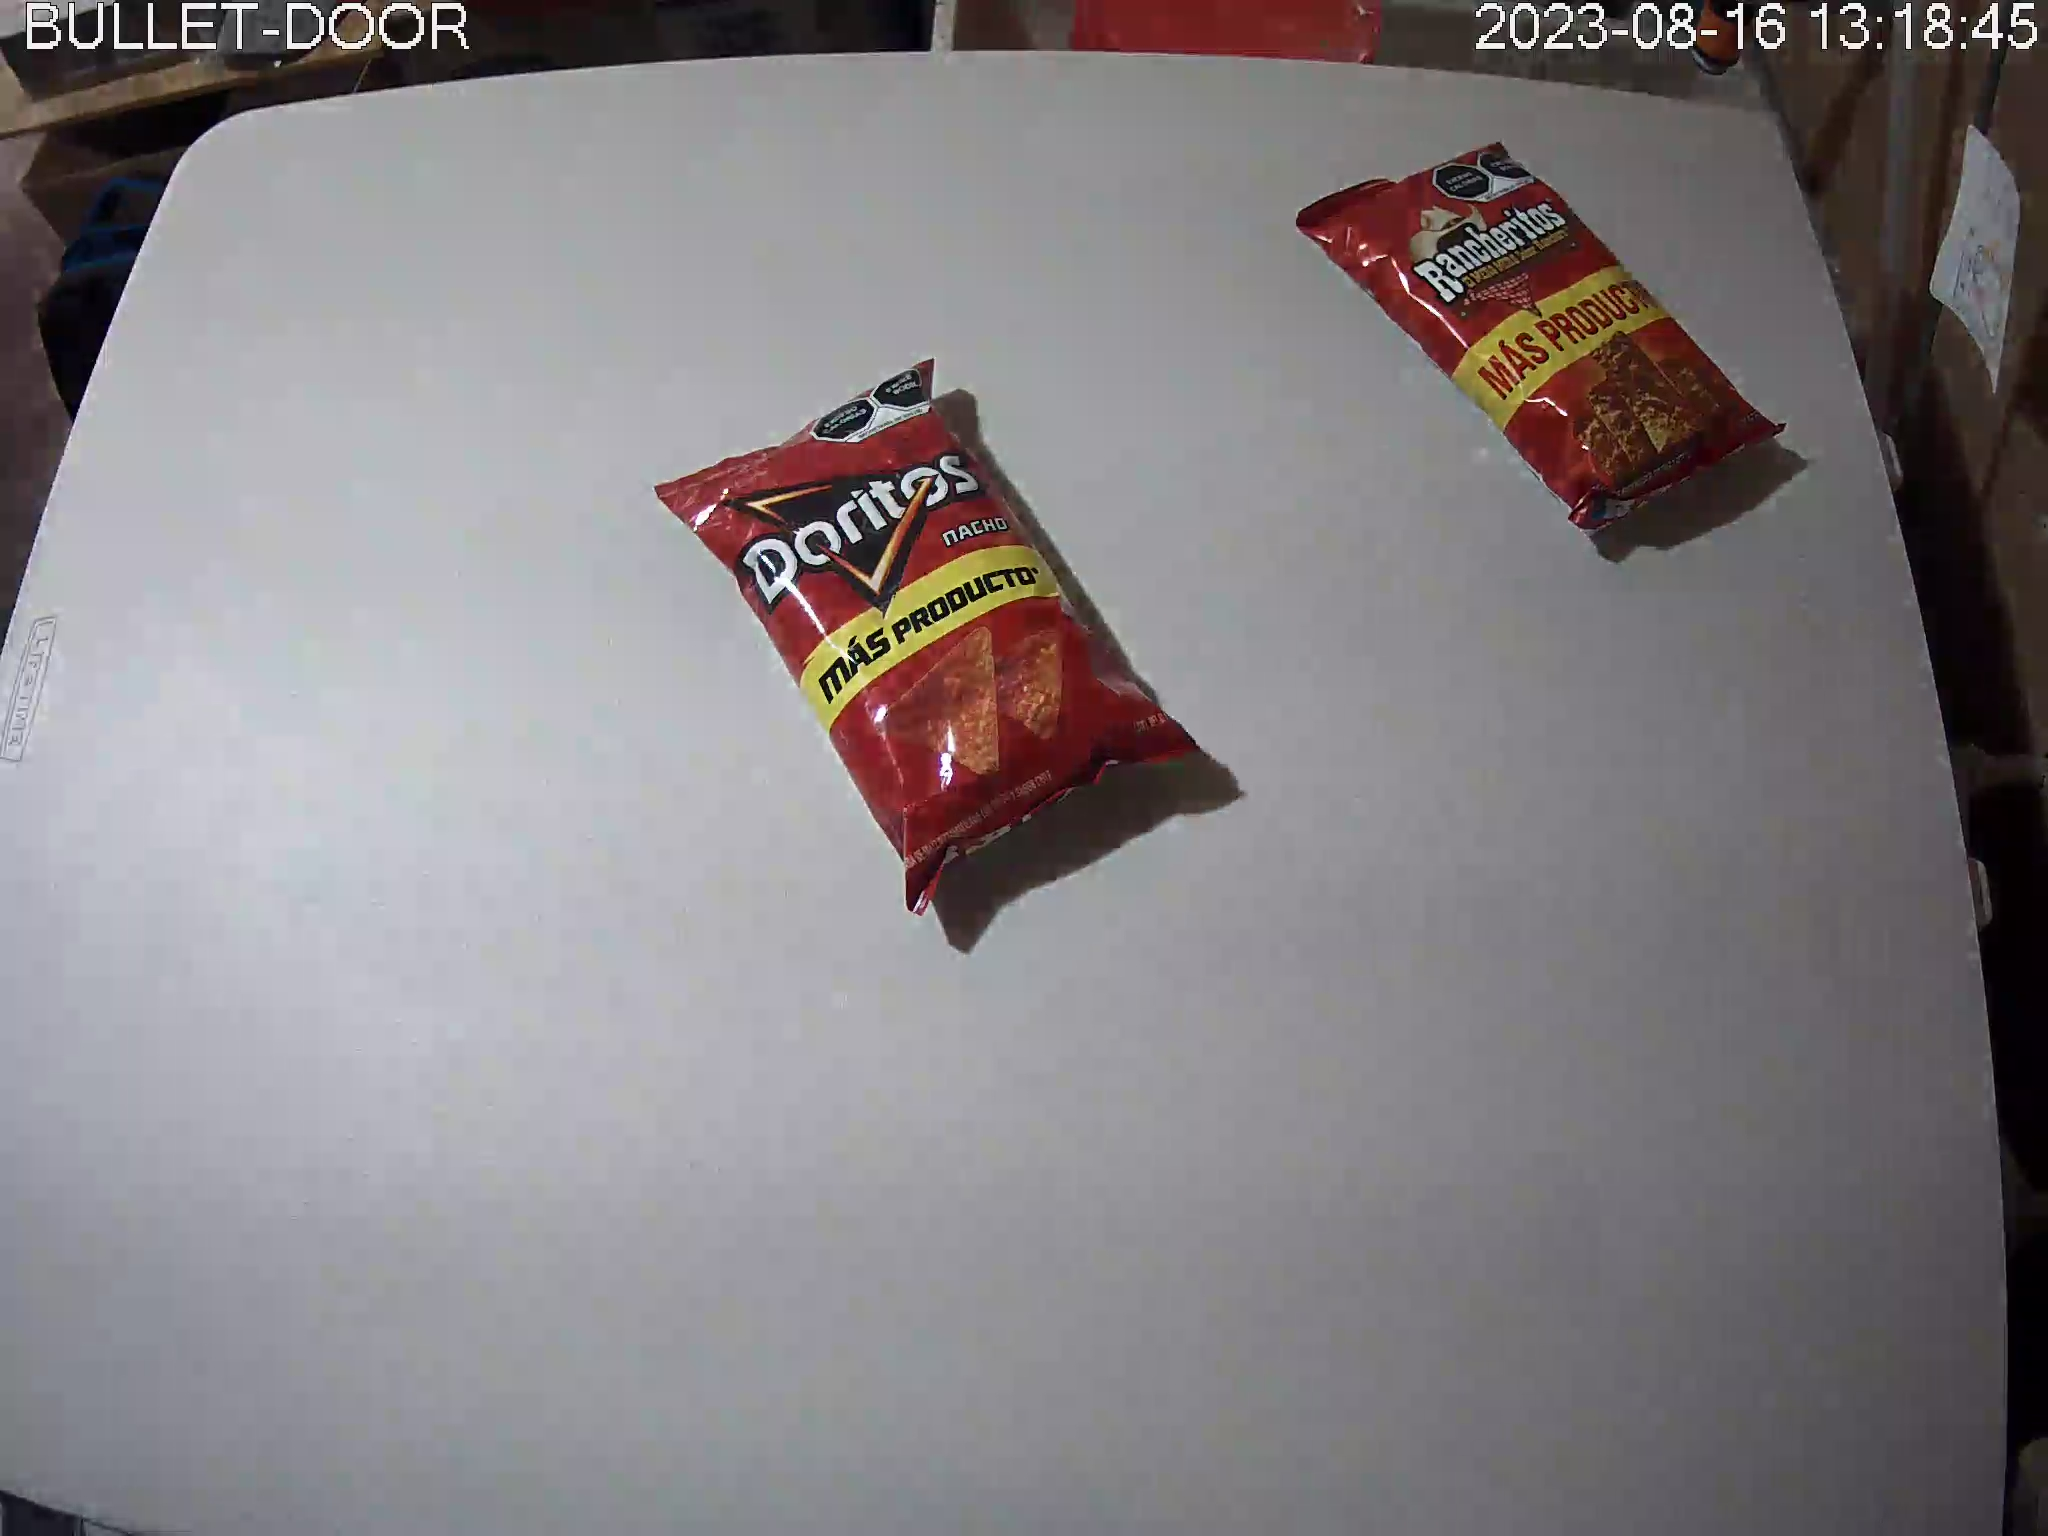DoritosN_61_F: (653, 357, 1206, 920)
Rancheritos_58_F: (1297, 142, 1792, 534)
